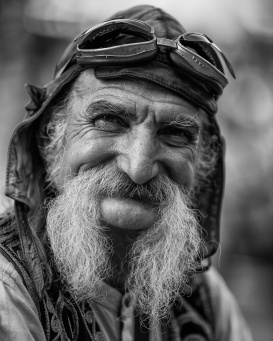Forehead: (79, 61, 200, 120)
